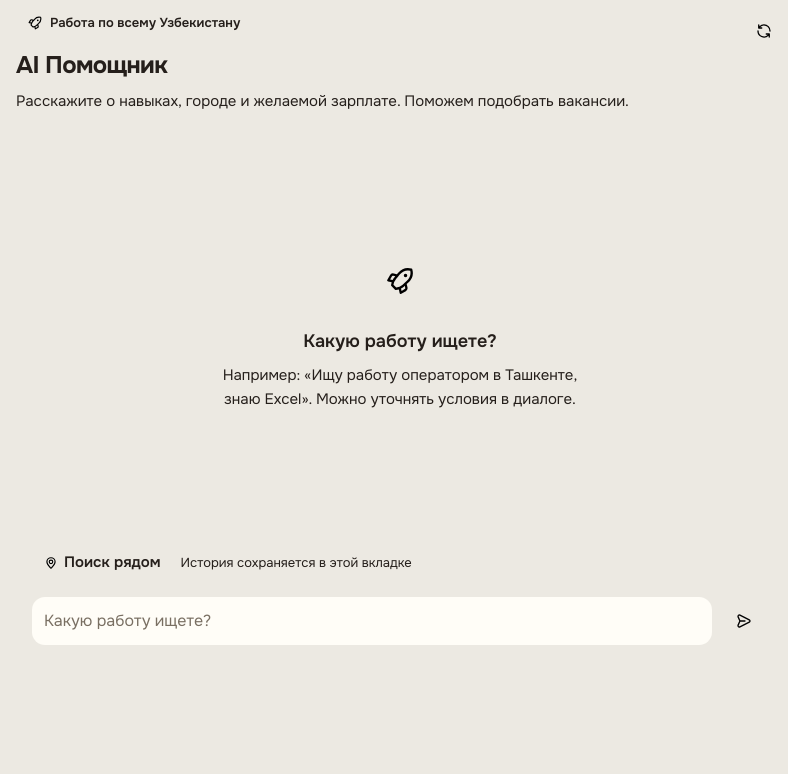
Scenario: malformed success payload is a retryable failure and keeps the draft
Type "Ищу работу" into the field.
click(372, 621); type("Ищу работу")  # box top-left (32, 597), bottom-right (712, 645)
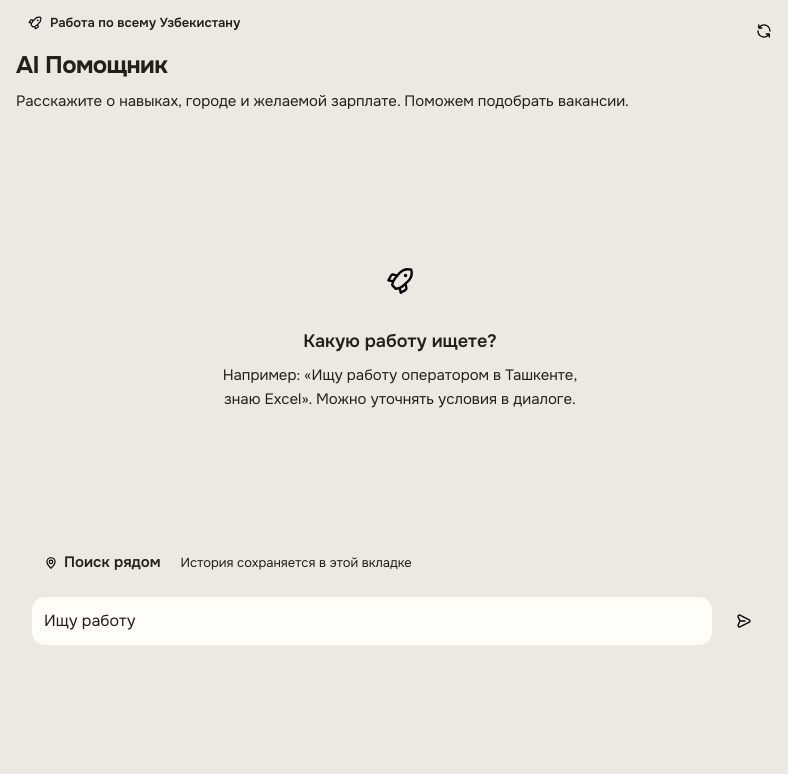
Click the button named "Отправить".
click(744, 621)  # box top-left (720, 597), bottom-right (768, 645)
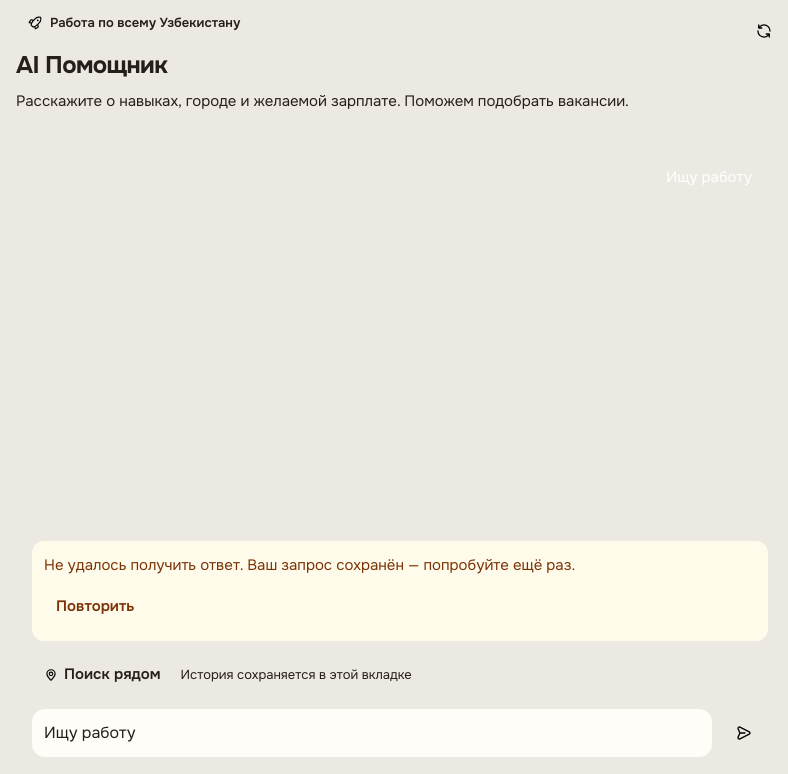
Check: the message "Не удалось получить ответ. Ваш запрос сохранён — попробуйте ещё раз. Повторить" is shown, box top-left (32, 541), bottom-right (768, 641)
